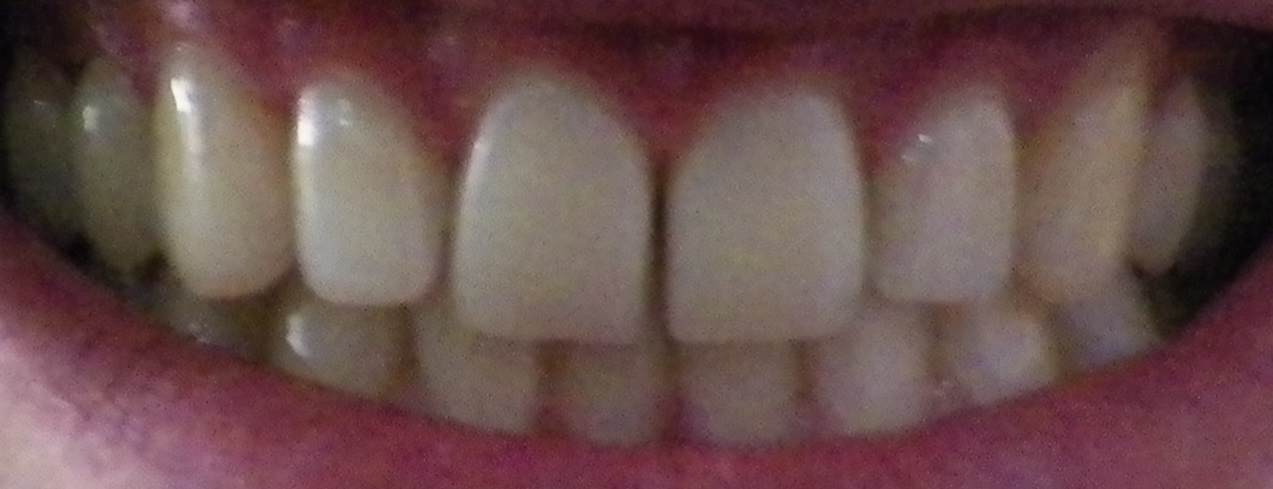boca: (29, 40, 1247, 427)
